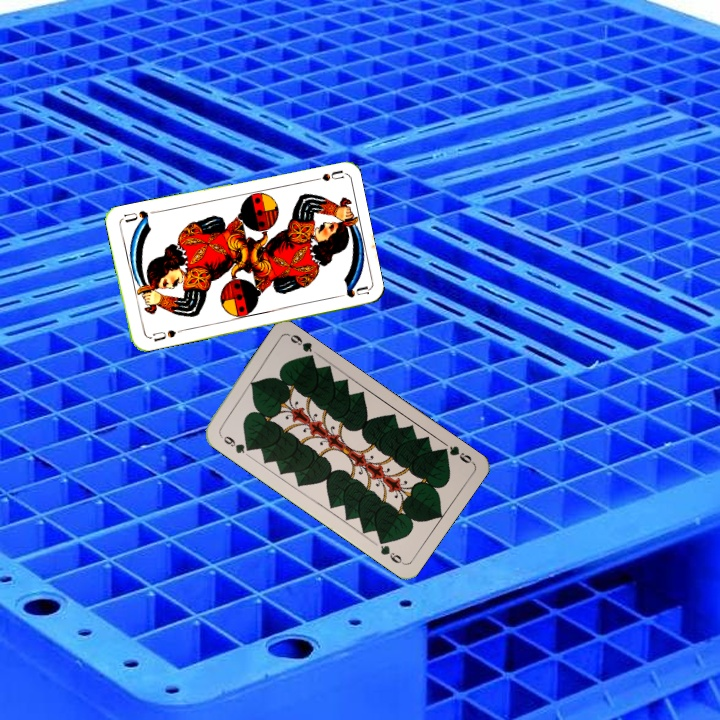G9: (216, 430, 254, 456), (436, 442, 476, 466)
SU: (304, 166, 345, 184), (144, 326, 178, 344)
